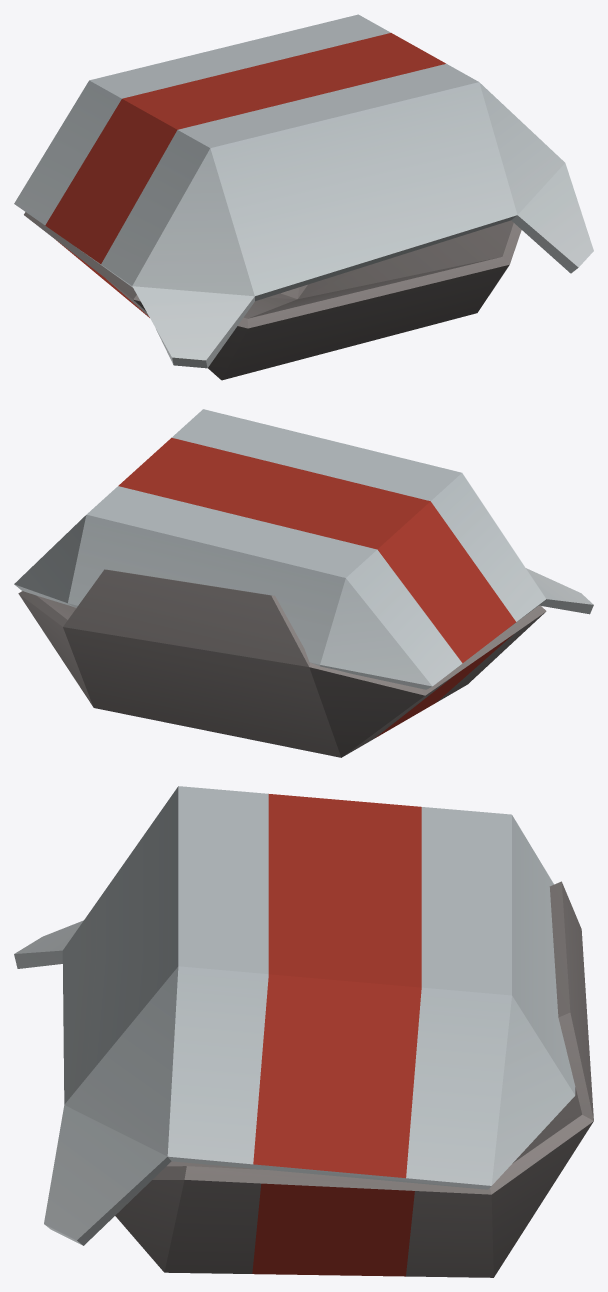
File: Trash_001.fbx
3 views of the same model, one above another, from view 1: azimuth 30°, elevation 25°; view 2: azimuth 150°, elevation 25°; view 3: azimuth 270°, elevation 25° (orthographic). The views are drawn at different scales.
Visible parts, largest first — view 1: Trash_001; view 2: Trash_001; view 3: Trash_001.
Boxes of the visible parts, <box> form: Trash_001: <box>14,14,593,380</box>; Trash_001: <box>14,409,593,757</box>; Trash_001: <box>14,786,593,1277</box>.
Size of the model in its own units: 17.18 by 14.25 by 8.49.
